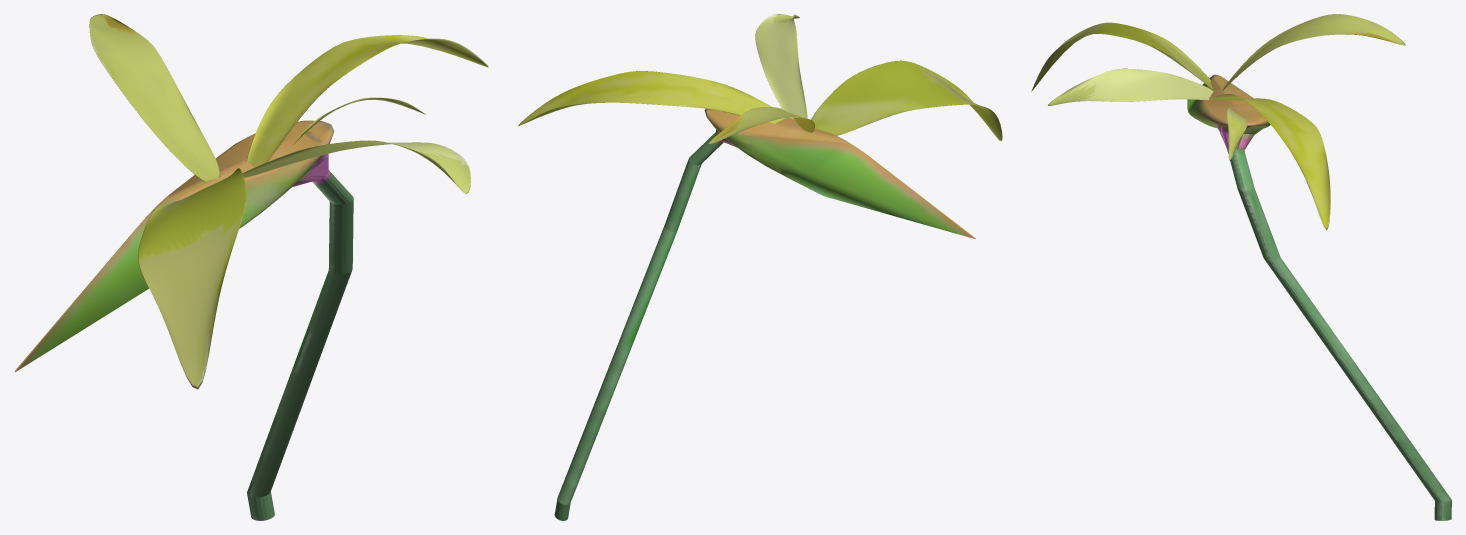
File: 天堂鳥枯萎2.fbx
The picture shows the model from 3 angles, left to right: view 1: azimuth 30°, elevation 25°; view 2: azimuth 150°, elevation 25°; view 3: azimuth 270°, elevation 25°; orthographic projection. The views are drawn at different scales.
Parts seen in each view (by area): view 1: 花頭, 葉子6, 葉子3, 葉子008, 葉子007; view 2: 花頭, 葉子6, 葉子008, 葉子007, 葉子3; view 3: 花頭, 葉子008, 葉子007, 葉子3, 葉子6, 葉子2.
Part boxes in pixels (bbox=[...]): 花頭: bbox=[14, 120, 353, 520]; 葉子6: bbox=[138, 168, 246, 389]; 葉子3: bbox=[89, 14, 220, 181]; 葉子008: bbox=[246, 35, 488, 167]; 葉子007: bbox=[242, 140, 470, 193]; 花頭: bbox=[554, 108, 975, 520]; 葉子6: bbox=[811, 60, 1002, 141]; 葉子008: bbox=[518, 71, 784, 125]; 葉子007: bbox=[755, 14, 807, 119]; 葉子3: bbox=[708, 107, 814, 144]; 花頭: bbox=[1187, 74, 1451, 520]; 葉子008: bbox=[1211, 94, 1330, 229]; 葉子007: bbox=[1047, 68, 1213, 105]; 葉子3: bbox=[1222, 14, 1405, 90]; 葉子6: bbox=[1031, 22, 1213, 92]; 葉子2: bbox=[1227, 107, 1246, 160].
Size of the model in its own units: 122 by 119 by 108.
Materials: 1 (1 with a texture image).
